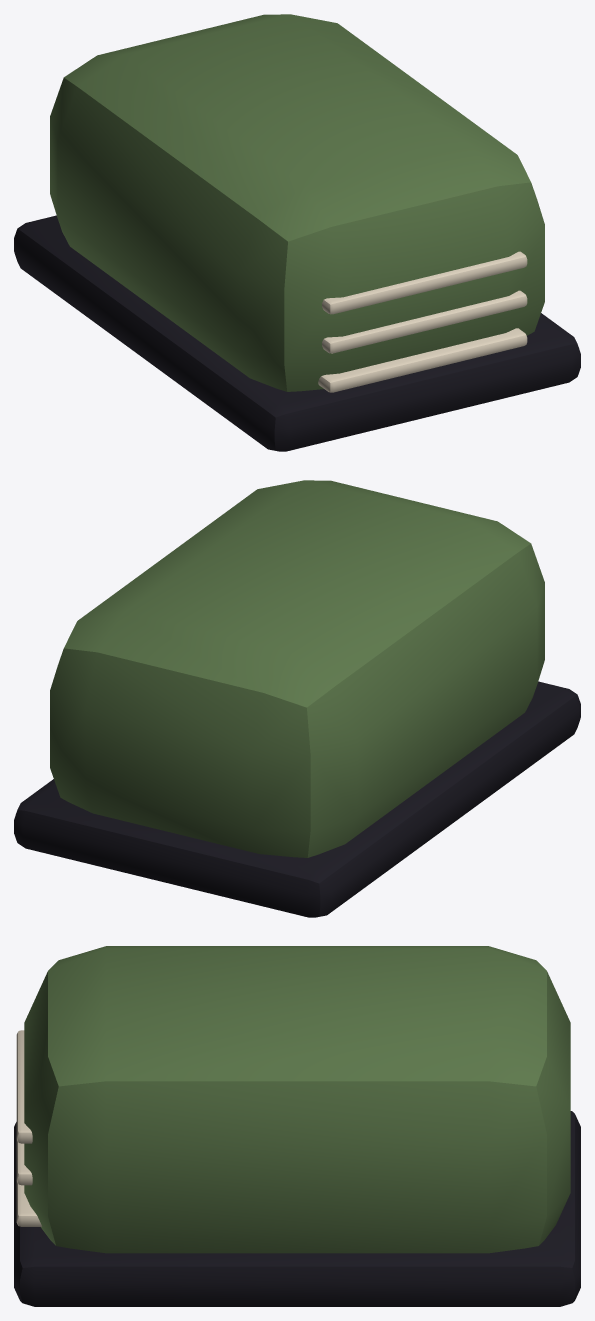
Rendered from Trooper_Foot.fbx.
3 views of the same model, one above another, from view 1: azimuth 30°, elevation 25°; view 2: azimuth 150°, elevation 25°; view 3: azimuth 270°, elevation 25° (orthographic). The views are drawn at different scales.
Parts seen in each view (by area): view 1: Trooper_Foot; view 2: Trooper_Foot; view 3: Trooper_Foot.
Boxes of the visible parts, box(x1,y1,x2,y2) form: Trooper_Foot: box(14, 14, 580, 451); Trooper_Foot: box(14, 480, 580, 917); Trooper_Foot: box(14, 946, 580, 1306).
Bounding box in the file's own units: 0.076 × 0.052 × 0.111.
